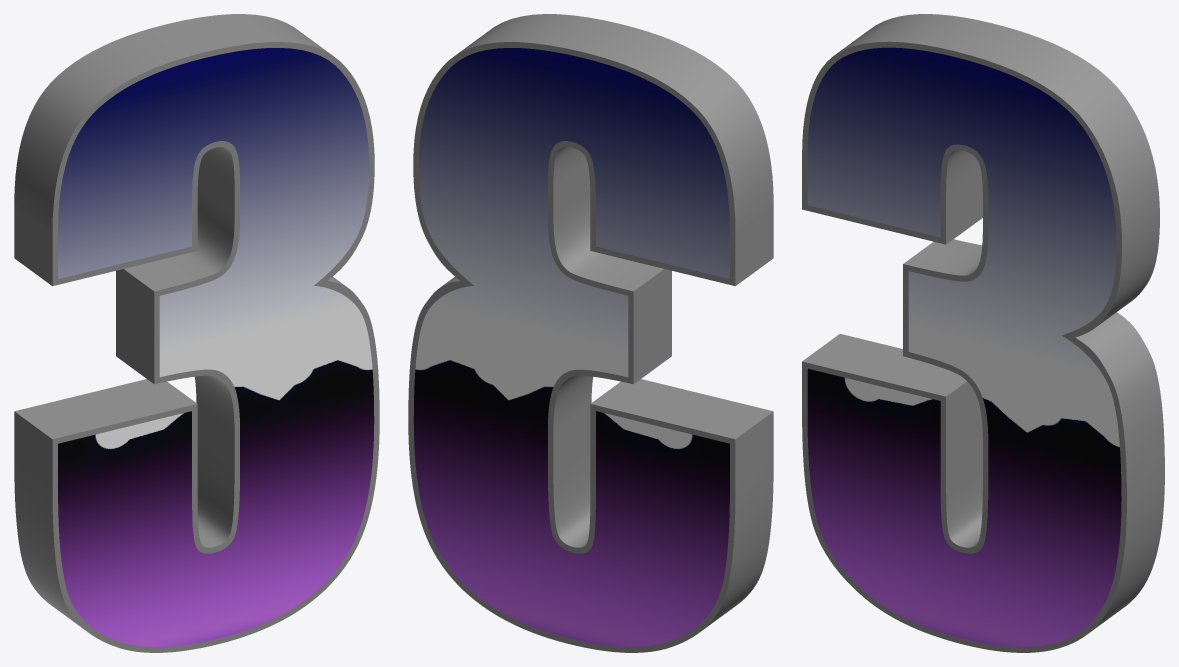
3 renders of one model, left to right at view 1: azimuth 30°, elevation 25°; view 2: azimuth 150°, elevation 25°; view 3: azimuth 330°, elevation 25°, orthographic.
Parts seen in each view (by area): view 1: 3, 3_outline; view 2: 3, 3_outline; view 3: 3, 3_outline.
Part boxes in pixels (x1,y1,x2,y2): 3: [58, 48, 374, 646]; 3_outline: [14, 14, 379, 652]; 3: [413, 48, 729, 646]; 3_outline: [408, 14, 773, 652]; 3: [807, 47, 1121, 646]; 3_outline: [802, 14, 1164, 652].
Size of the model in its own units: 59.3 by 103 by 12.
Materials: 2 (1 with a texture image).
